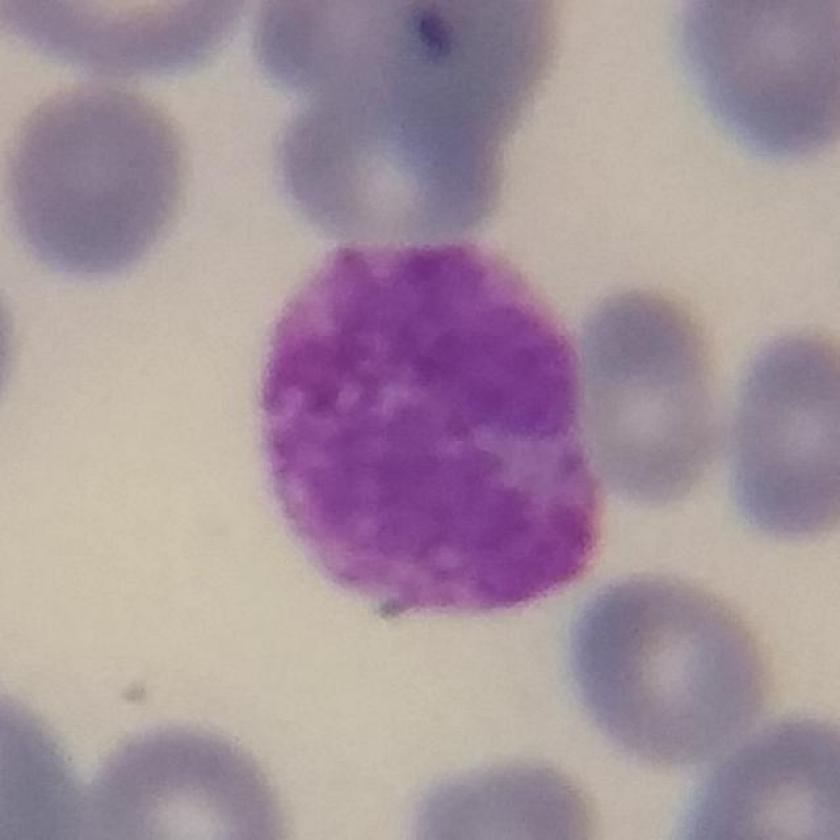basophil: (249, 228, 625, 635)
